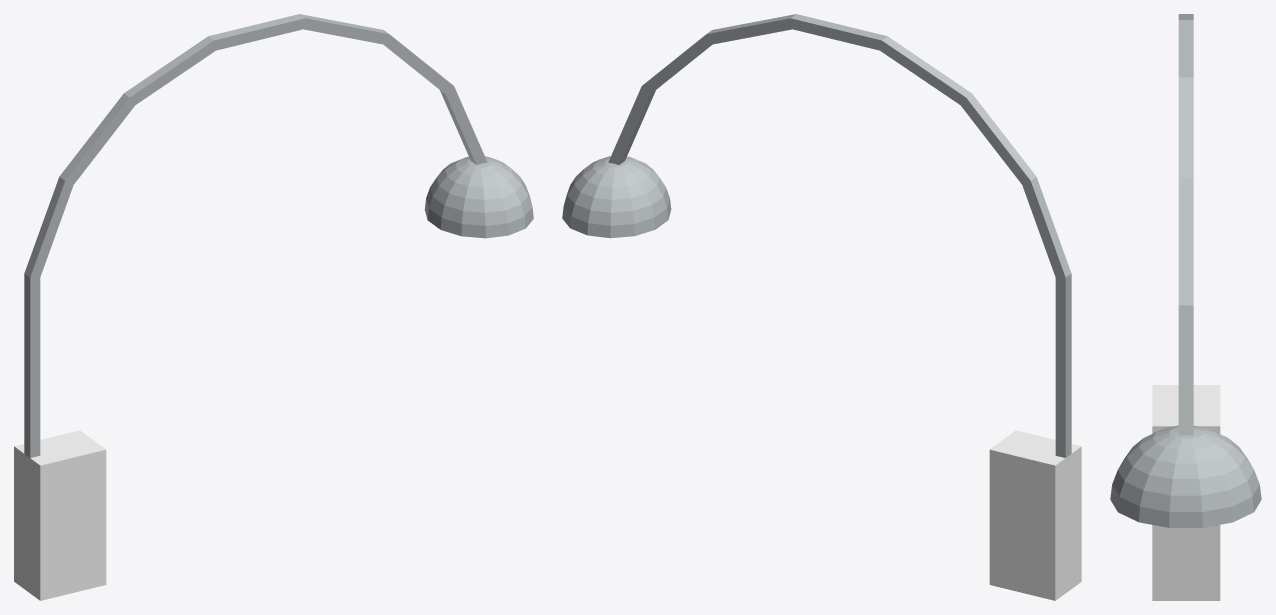
File: flynn_lamp_off.obj
The picture shows the model from 3 angles, left to right: view 1: azimuth 30°, elevation 25°; view 2: azimuth 150°, elevation 25°; view 3: azimuth 270°, elevation 25°; orthographic projection. The views are drawn at different scales.
Visible parts, largest first — view 1: cube, Sphere_Sphere.002, cube.000, cube.002, cube.001, cube.003, cube.007, cube.004, cube.006, cube.005; view 2: cube, Sphere_Sphere.002, cube.000, cube.002, cube.001, cube.003, cube.007, cube.004, cube.006, cube.005; view 3: Sphere_Sphere.002, cube, cube.006, cube.005, cube.004, cube.007.
Boxes of the visible parts, x1,y1,x2,y2 form: cube: (14, 430, 106, 600); Sphere_Sphere.002: (424, 156, 533, 238); cube.000: (24, 273, 40, 457); cube.002: (59, 93, 136, 186); cube.001: (24, 177, 73, 278); cube.003: (124, 36, 217, 104); cube.007: (208, 14, 305, 50); cube.004: (300, 14, 389, 44); cube.006: (440, 86, 487, 164); cube.005: (384, 34, 453, 94); cube: (989, 430, 1081, 600); Sphere_Sphere.002: (562, 156, 671, 238); cube.000: (1055, 273, 1071, 457); cube.002: (959, 93, 1036, 186); cube.001: (1021, 177, 1071, 278); cube.003: (878, 36, 971, 105); cube.007: (790, 14, 887, 50); cube.004: (706, 14, 795, 44); cube.006: (608, 86, 655, 164); cube.005: (642, 34, 711, 94); Sphere_Sphere.002: (1110, 425, 1261, 527); cube: (1152, 385, 1220, 600); cube.006: (1178, 305, 1193, 435); cube.005: (1178, 177, 1193, 305); cube.004: (1178, 77, 1193, 177); cube.007: (1178, 20, 1193, 77).
Bounding box in the file's own units: 3.06 × 2.99 × 0.6268.
